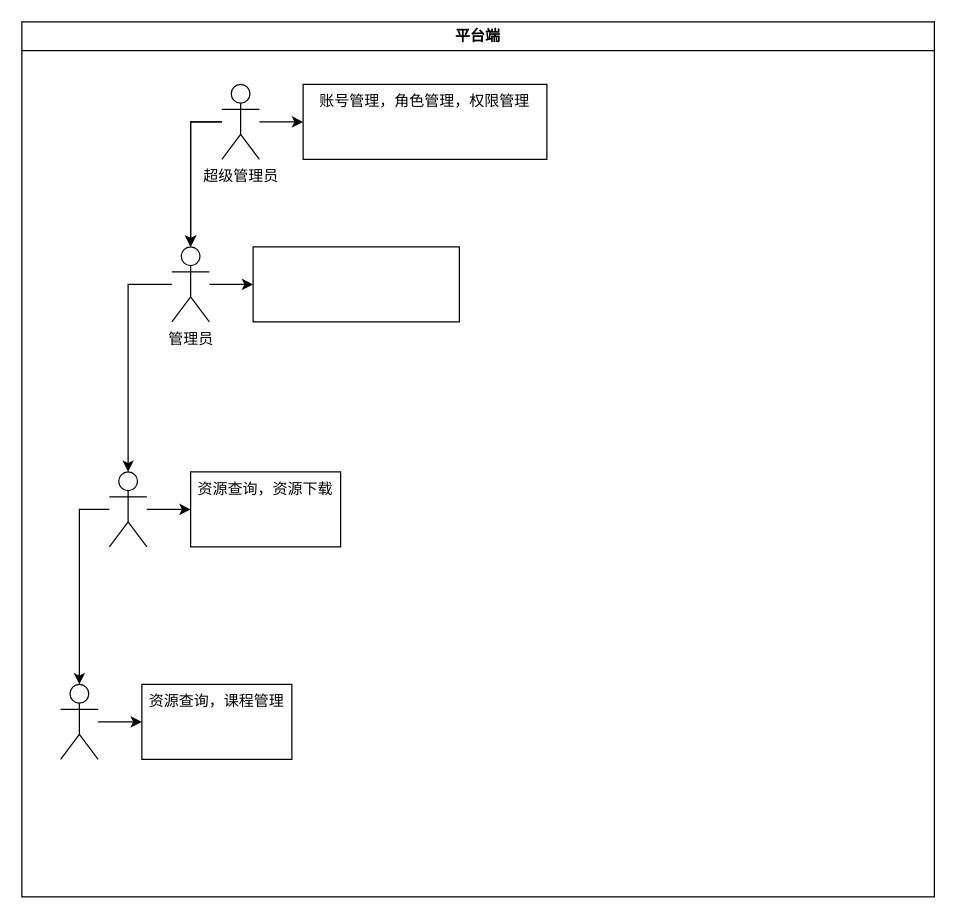
Some shapes in this 956 by 919 pixel diagram are drawn without their labels. The shapes that lost their labels are listed below. From the top down, each one's box as (x1, y1, x2, y2) in pixels, then its label:
(252, 246, 459, 322): 用户管理，资源管理
(108, 471, 147, 547): 学校账号
(59, 683, 98, 759): 教师账号
